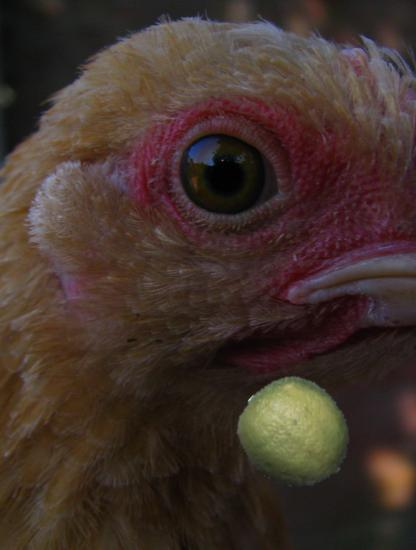Limes: (238, 376, 353, 491)
